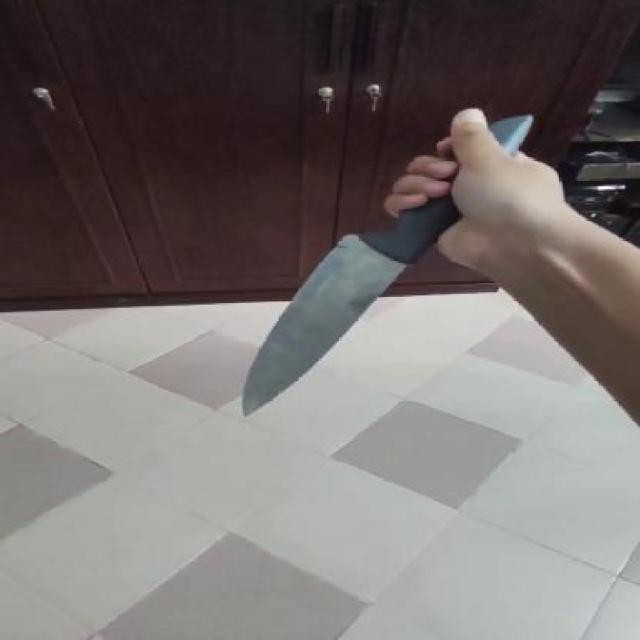knife: (208, 224, 442, 430)
